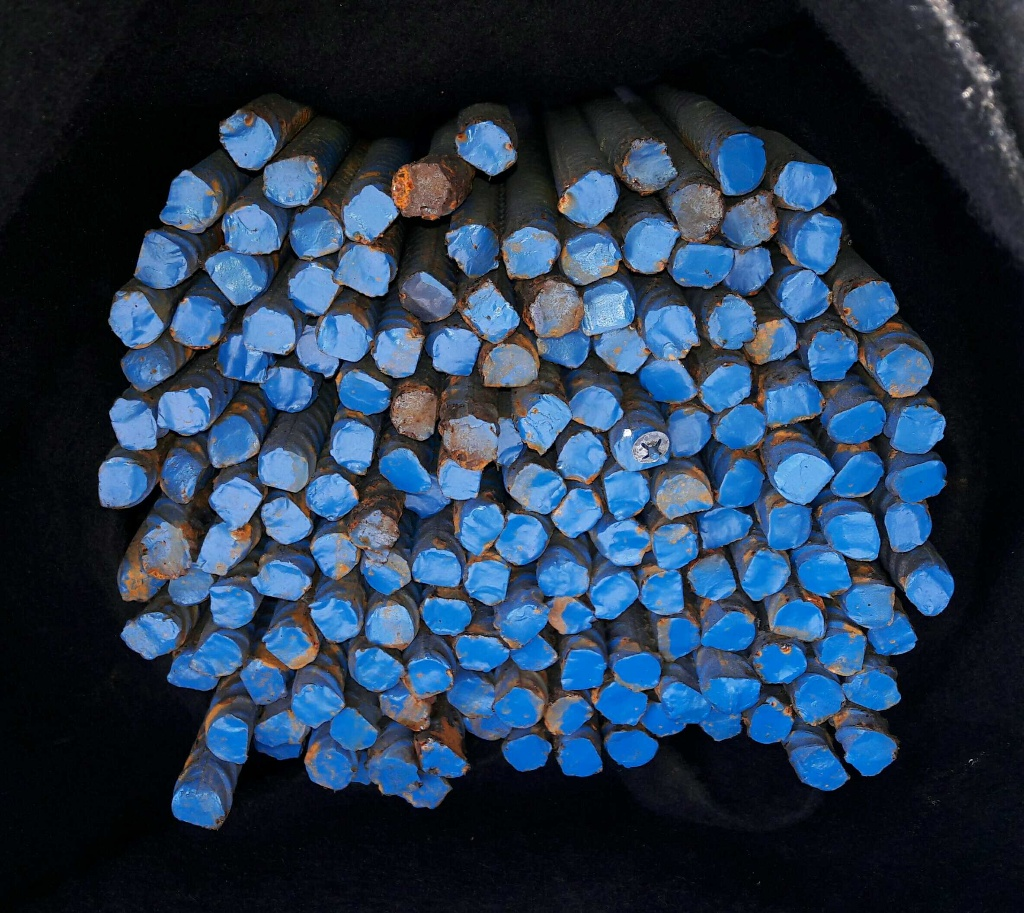dipstick: (461, 283, 519, 343), (160, 171, 217, 232), (206, 250, 268, 306), (333, 245, 396, 298), (721, 190, 779, 247), (220, 112, 276, 171), (559, 171, 617, 226), (109, 290, 163, 349), (456, 122, 515, 175), (774, 452, 834, 504), (717, 133, 766, 196), (344, 186, 398, 243), (531, 281, 585, 338), (519, 394, 571, 453), (623, 219, 678, 274), (645, 306, 699, 362), (775, 162, 836, 211), (392, 165, 447, 219), (134, 232, 186, 289), (443, 416, 498, 469), (502, 227, 559, 278), (562, 234, 619, 285), (673, 186, 724, 243), (263, 156, 321, 206), (673, 242, 733, 289), (224, 205, 280, 255), (794, 214, 841, 273), (290, 205, 342, 258), (169, 296, 222, 348), (402, 271, 455, 323), (446, 226, 499, 278), (878, 345, 931, 397), (142, 523, 191, 579), (208, 416, 260, 468), (780, 270, 832, 322), (708, 295, 757, 350), (764, 383, 825, 427), (121, 613, 178, 660), (625, 139, 676, 191), (741, 547, 790, 601), (825, 512, 880, 560), (496, 513, 546, 565), (583, 283, 635, 333), (512, 465, 565, 514), (657, 474, 714, 519), (790, 745, 847, 790), (209, 477, 260, 527), (894, 405, 945, 455), (844, 282, 896, 331), (242, 307, 296, 354), (595, 327, 649, 374), (377, 448, 432, 494), (641, 358, 696, 404), (552, 487, 602, 537), (808, 331, 858, 381), (288, 265, 339, 314), (109, 398, 158, 449), (98, 457, 147, 508), (905, 565, 954, 616), (218, 335, 269, 383), (261, 496, 312, 544), (306, 474, 358, 521), (559, 431, 606, 483), (568, 387, 621, 433), (828, 401, 886, 443), (842, 730, 896, 775), (317, 315, 367, 363), (701, 363, 751, 411), (375, 327, 422, 378), (159, 389, 211, 435), (330, 422, 374, 476), (795, 676, 843, 725), (458, 506, 505, 556), (831, 452, 883, 497), (885, 503, 932, 552), (714, 404, 766, 448), (254, 561, 311, 601), (887, 461, 947, 499), (604, 471, 650, 520), (727, 247, 773, 296), (747, 319, 797, 364), (667, 409, 712, 459), (190, 633, 241, 677), (292, 686, 344, 729), (338, 369, 390, 412), (845, 669, 899, 710), (391, 391, 436, 440), (719, 458, 764, 507), (121, 348, 172, 391), (483, 345, 536, 386), (799, 554, 852, 595), (311, 534, 358, 580), (433, 329, 479, 376), (160, 449, 200, 503), (265, 367, 313, 412), (591, 575, 640, 619), (364, 606, 414, 649), (596, 683, 647, 725), (241, 658, 286, 705), (601, 522, 650, 565), (817, 633, 866, 676), (845, 585, 894, 628), (498, 605, 548, 647), (265, 627, 316, 668), (773, 600, 824, 641), (172, 790, 224, 830), (689, 555, 735, 600), (330, 707, 377, 751), (260, 449, 308, 492), (355, 648, 403, 691), (662, 681, 710, 724), (361, 553, 411, 594), (297, 325, 337, 376), (199, 528, 242, 575), (206, 716, 248, 764), (447, 677, 495, 719), (379, 693, 432, 731), (496, 687, 545, 728), (704, 612, 754, 652), (701, 508, 752, 547), (767, 504, 811, 549), (303, 750, 352, 790), (756, 644, 806, 683), (209, 586, 254, 629), (353, 512, 398, 555), (312, 599, 358, 641), (606, 731, 658, 768), (118, 563, 167, 602), (412, 548, 461, 587), (537, 562, 590, 598), (169, 652, 219, 690), (654, 525, 698, 568), (641, 570, 684, 614), (657, 618, 701, 661), (421, 598, 472, 635), (546, 695, 592, 736), (704, 678, 761, 711), (405, 659, 453, 698), (253, 711, 308, 745), (456, 636, 509, 671), (371, 758, 421, 795), (405, 476, 450, 517), (466, 561, 507, 606), (558, 737, 603, 777), (421, 740, 469, 777), (867, 616, 915, 653), (561, 650, 605, 690), (614, 654, 661, 691), (504, 735, 552, 771), (547, 597, 593, 634), (511, 635, 558, 671), (438, 460, 480, 500), (750, 704, 792, 743), (170, 565, 213, 603), (640, 702, 686, 737), (408, 776, 451, 808)
